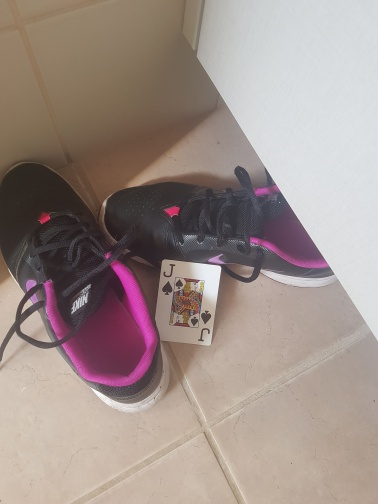jack: (152, 258, 221, 347)
